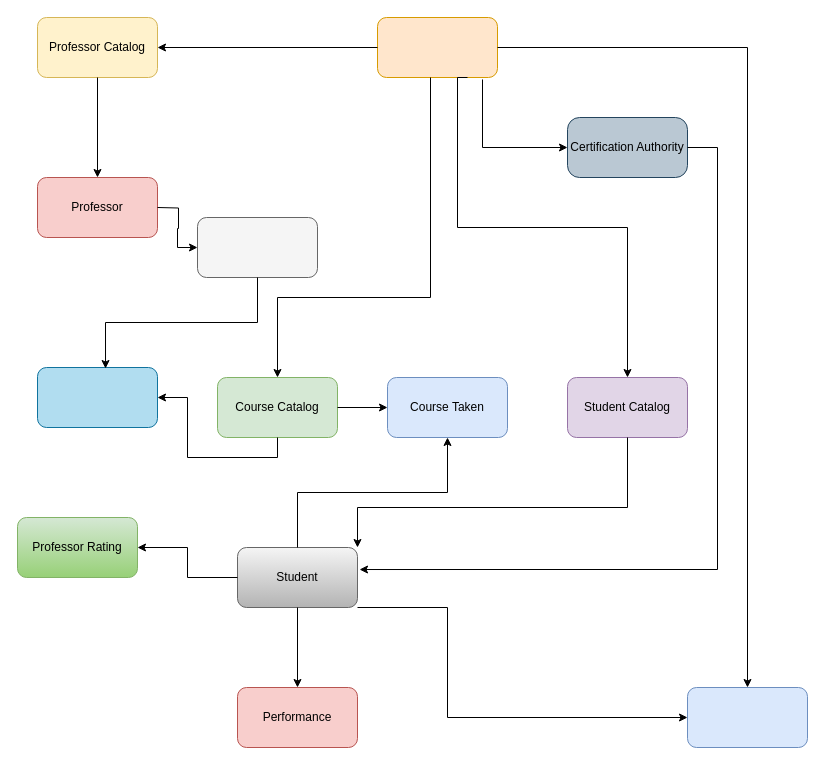
The diagram is 825 pixels wide and 765 high, and some of its shapes have lost their labels. The centre of each missing label's shape, as x and y in pixels:
"Admin" goes at point (437, 47).
"Course" goes at point (97, 397).
"Course Offered" goes at point (257, 247).
"Degree" goes at point (747, 717).
